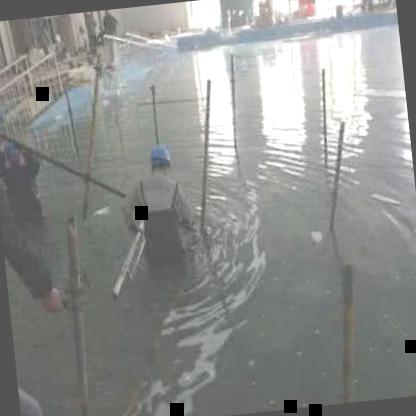helmet: (146, 139, 178, 183)
